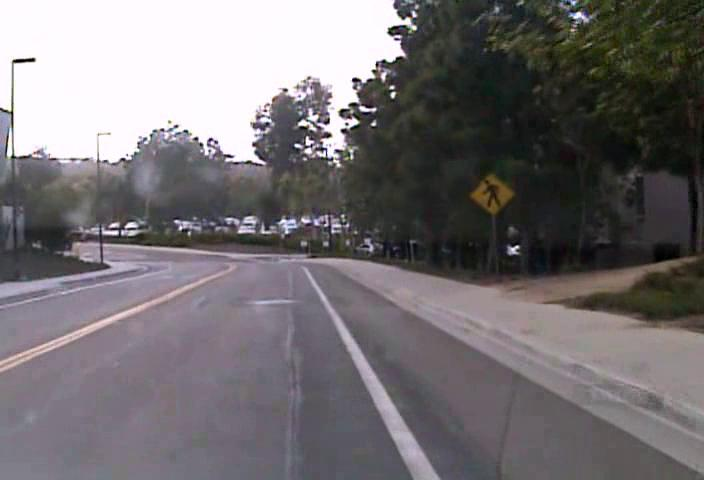pedestrianCrossing: (469, 171, 515, 215)
